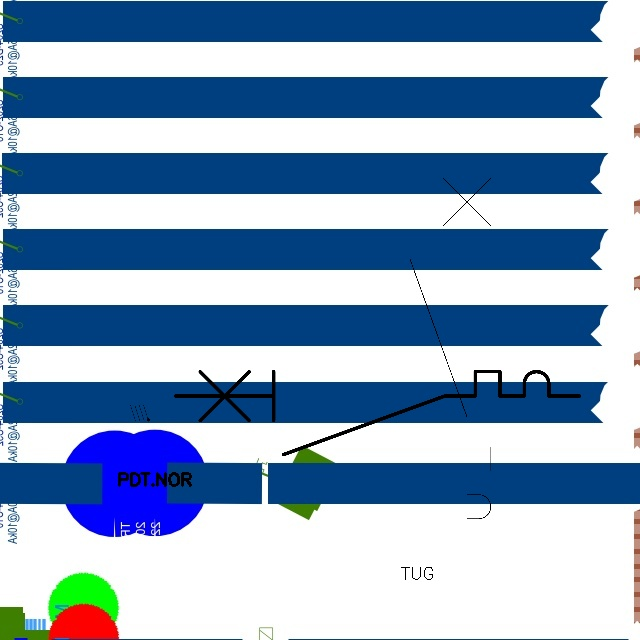interruptor_termomagnetico: (165, 361, 590, 465), (400, 144, 501, 559)
